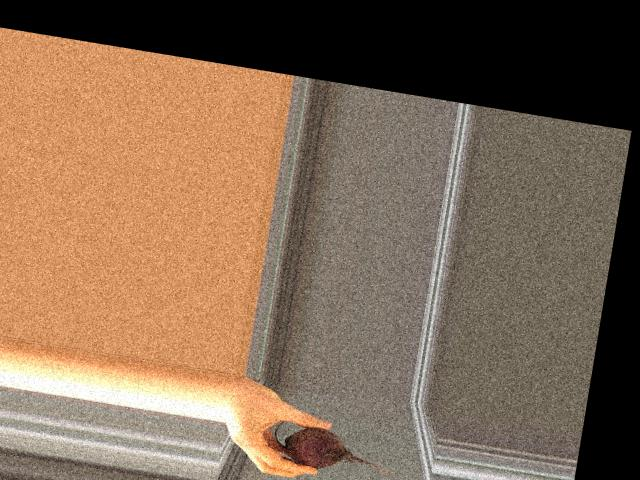beet: (271, 420, 401, 480)
